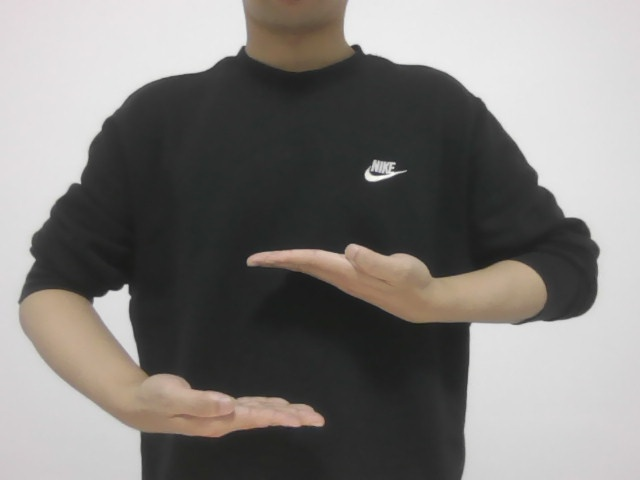happy: (137, 222, 430, 445)
